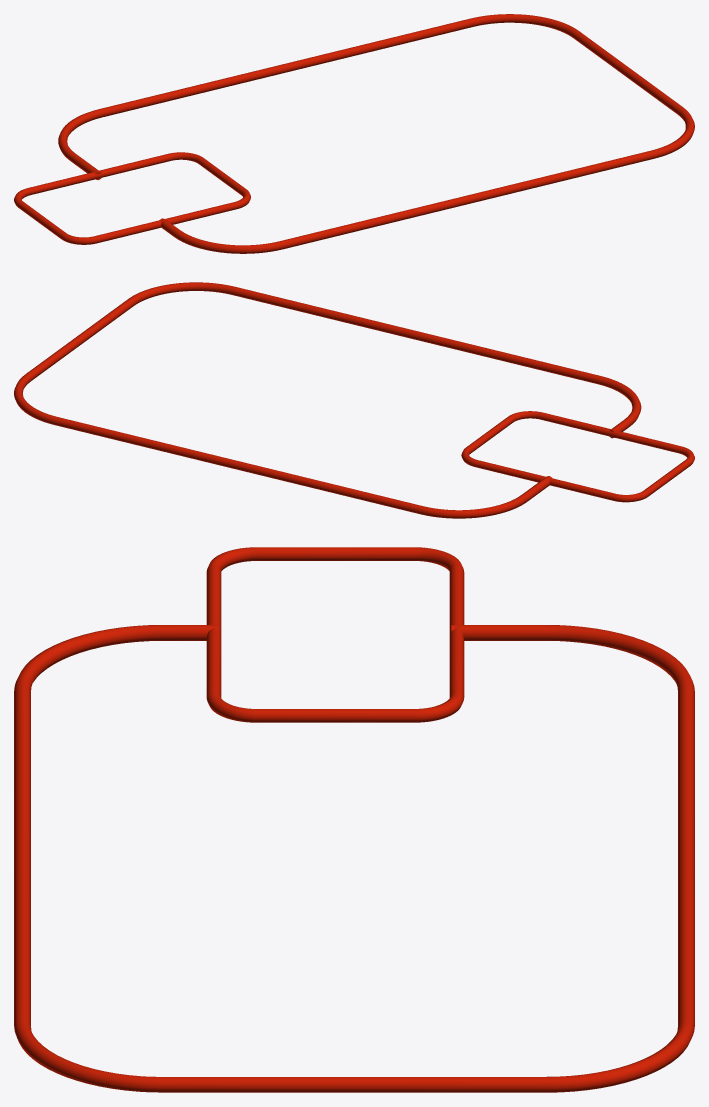
Rendered from cable_3.fbx.
The picture shows the model from 3 angles, top to bottom: view 1: azimuth 30°, elevation 25°; view 2: azimuth 150°, elevation 25°; view 3: azimuth 270°, elevation 25°; orthographic projection. The views are drawn at different scales.
Visible parts, largest first — view 1: Sweep, Sweep_2; view 2: Sweep, Sweep_2; view 3: Sweep, Sweep_2.
Part boxes in pixels (x1,y1,x2,y2): Sweep: (58, 14, 694, 253); Sweep_2: (14, 152, 250, 244); Sweep: (14, 282, 641, 518); Sweep_2: (461, 411, 694, 502); Sweep: (14, 625, 694, 1092); Sweep_2: (206, 547, 464, 722).
Size of the model in its own units: 209 by 2.78 by 112.
